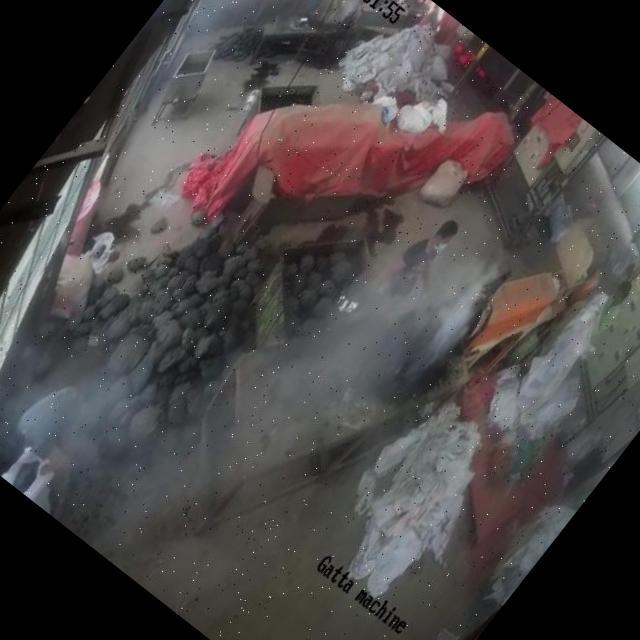person: (376, 208, 472, 317), (584, 275, 640, 343)
